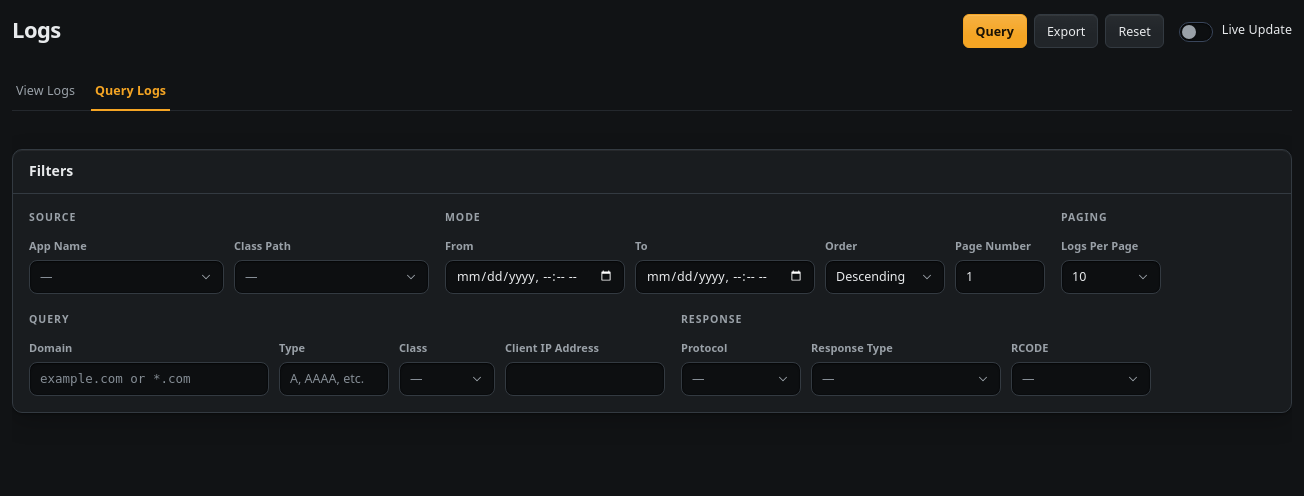
Logs › Query Logs: the form › with no query-logs app, "Query" alerts with the text that points at Apps
Expected: the dropdown named "App Name" is shown, [29,260,224,294]
What coordinates should you click on to do the following:
click the button "Query"
I would click on:
 (995, 31)
Its box is [962,14,1027,48].
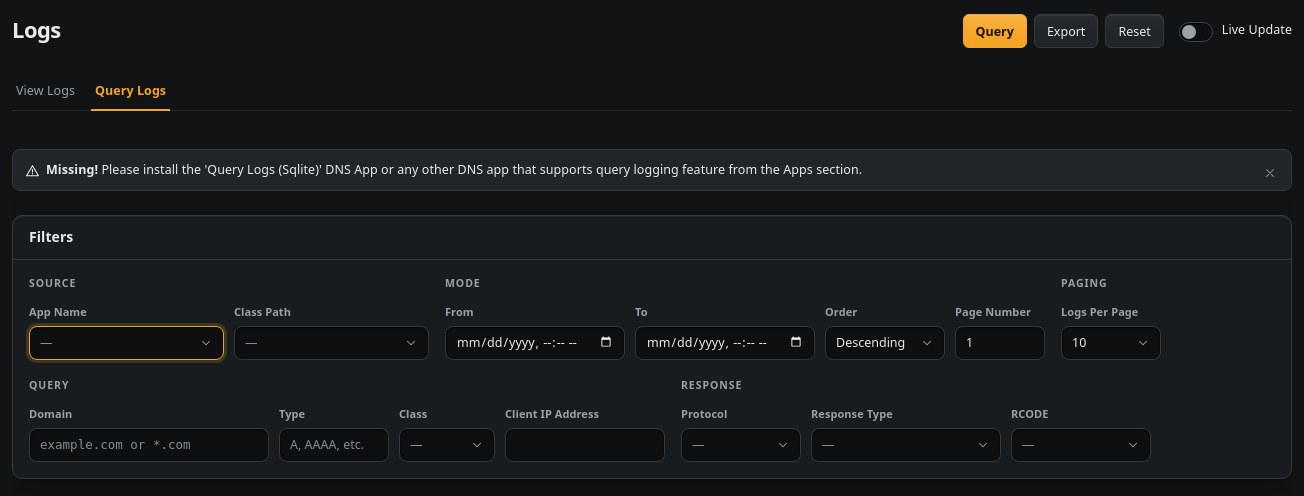
Expected: the text "Missing!" is shown, [46,161,98,178]
Expected: the text "Please install the 'Query Logs (Sqlite)' DNS App or any other DNS app that supports query logging feature from the Apps " is shown, [101,161,862,178]
